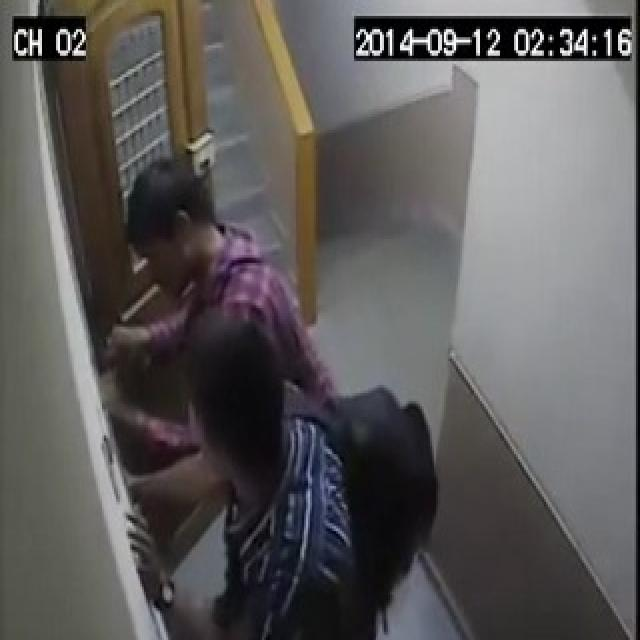burglary: (61, 233, 266, 524)
